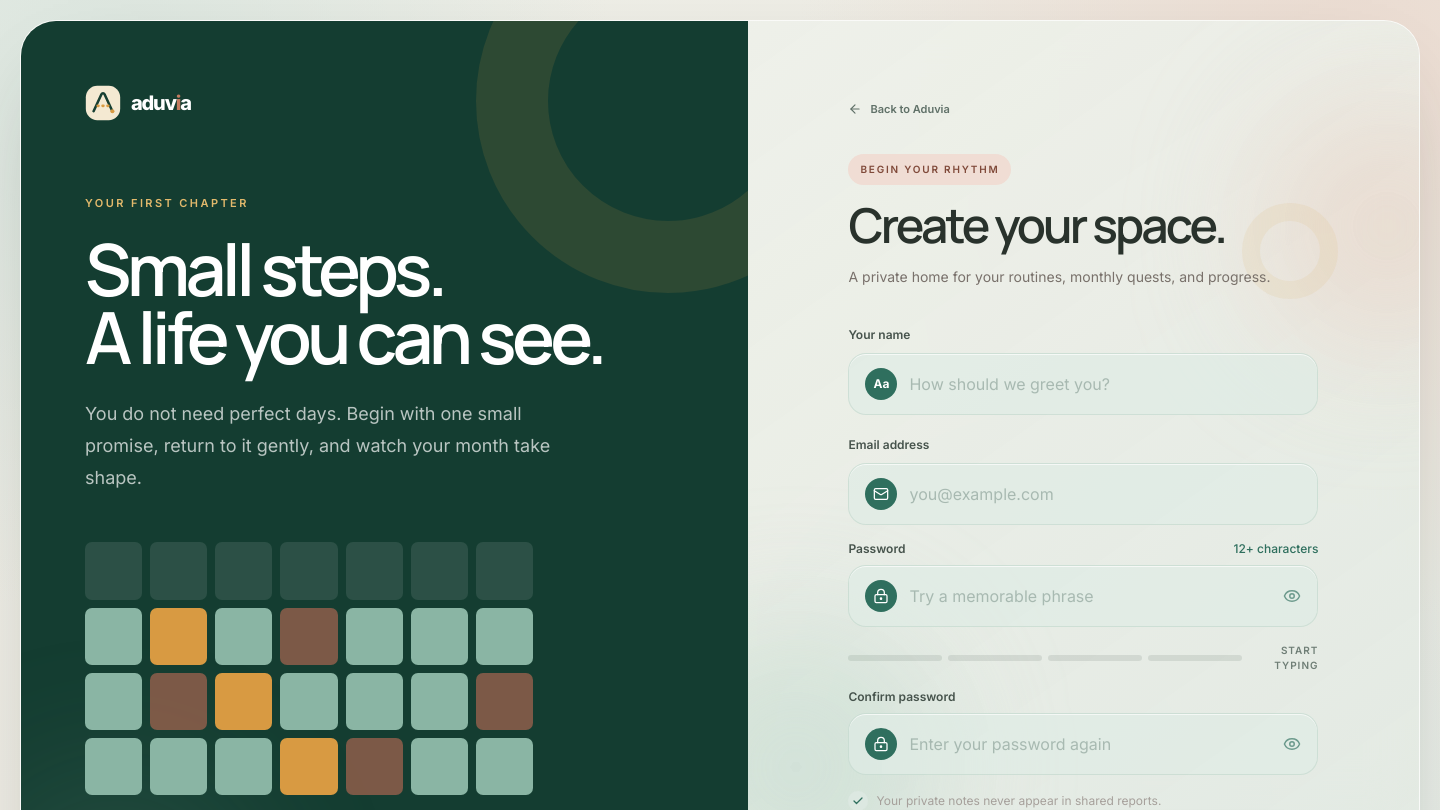
Test: AuthScreen › reveals the password and links back to login
Click the button named "Show password" at [1292, 596], box [1284,586,1302,604]
(page scrolled)
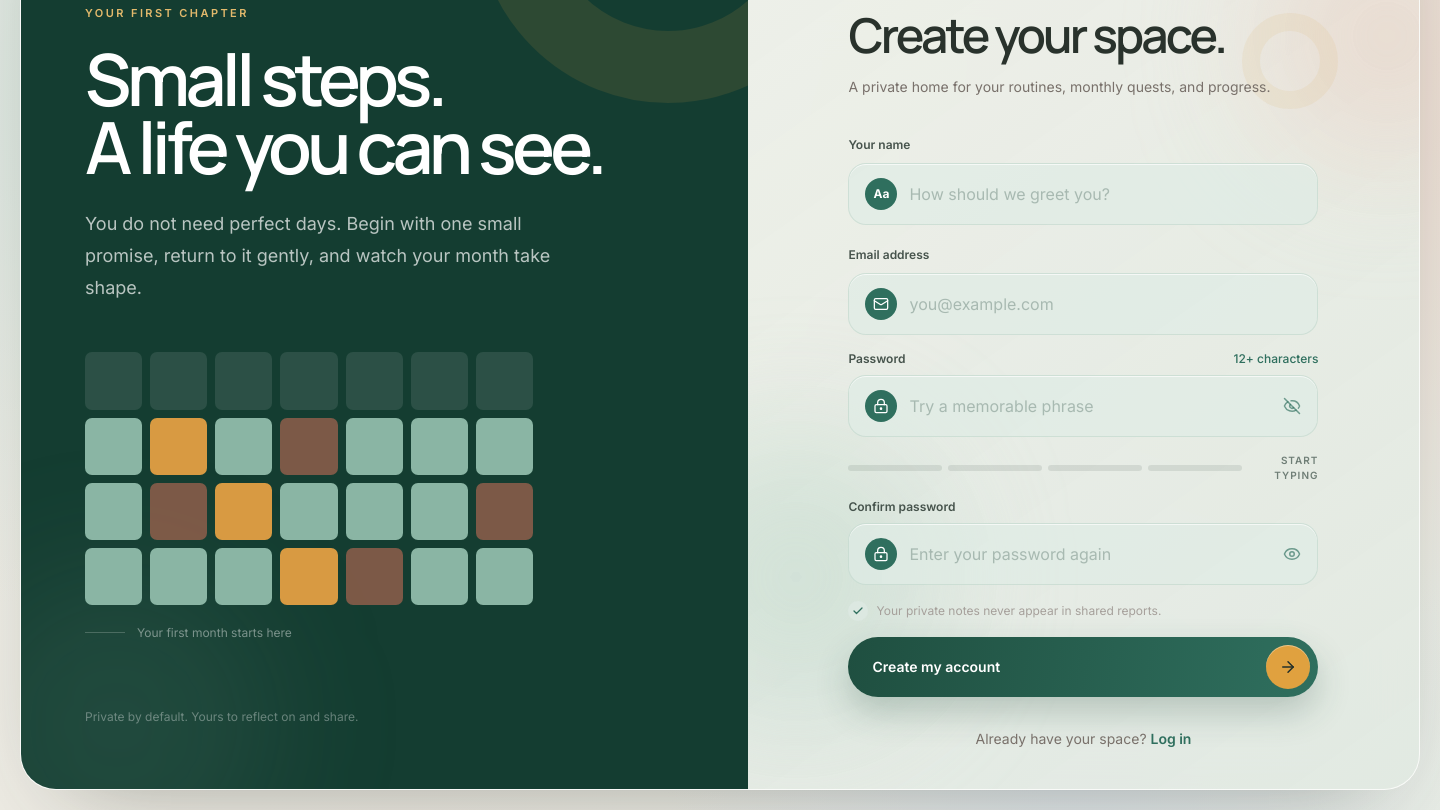
Result: the field with placeholder "Try a memorable phrase" shows its text at [910,394,1272,418]
